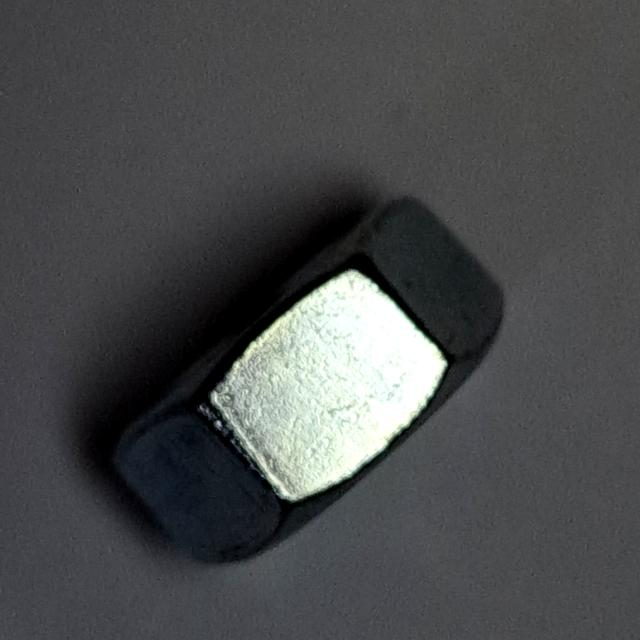Side_Excellent: (98, 181, 508, 584)
